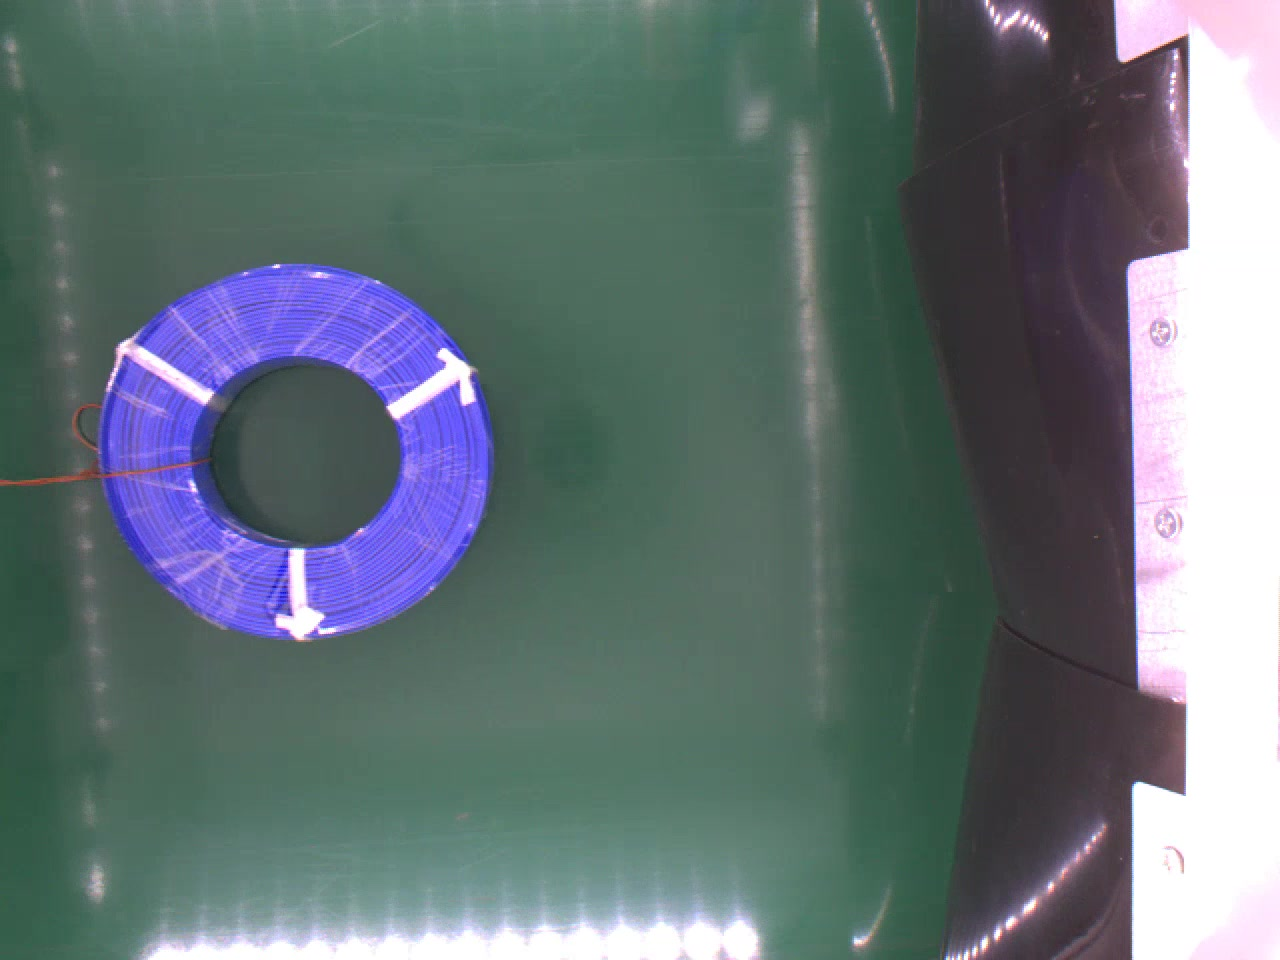blue: (97, 262, 496, 639)
